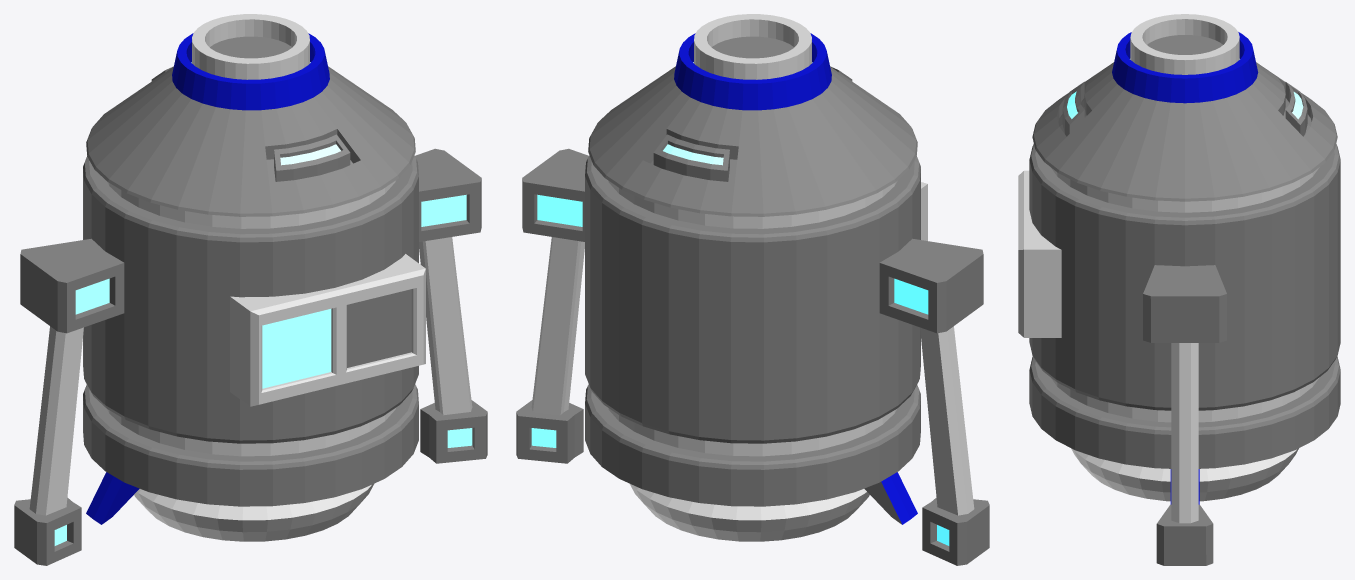
File: Rocket.fbx
3 views of the same model, side by side, from view 1: azimuth 30°, elevation 25°; view 2: azimuth 150°, elevation 25°; view 3: azimuth 270°, elevation 25° (orthographic). The views are drawn at different scales.
Visible parts, largest first — view 1: Rocket; view 2: Rocket; view 3: Rocket.
Boxes of the visible parts, x1,y1,x2,y2 form: Rocket: (14, 14, 487, 565); Rocket: (516, 14, 989, 565); Rocket: (1018, 14, 1340, 565).
Bounding box in the file's own units: 232 × 155 × 227.
